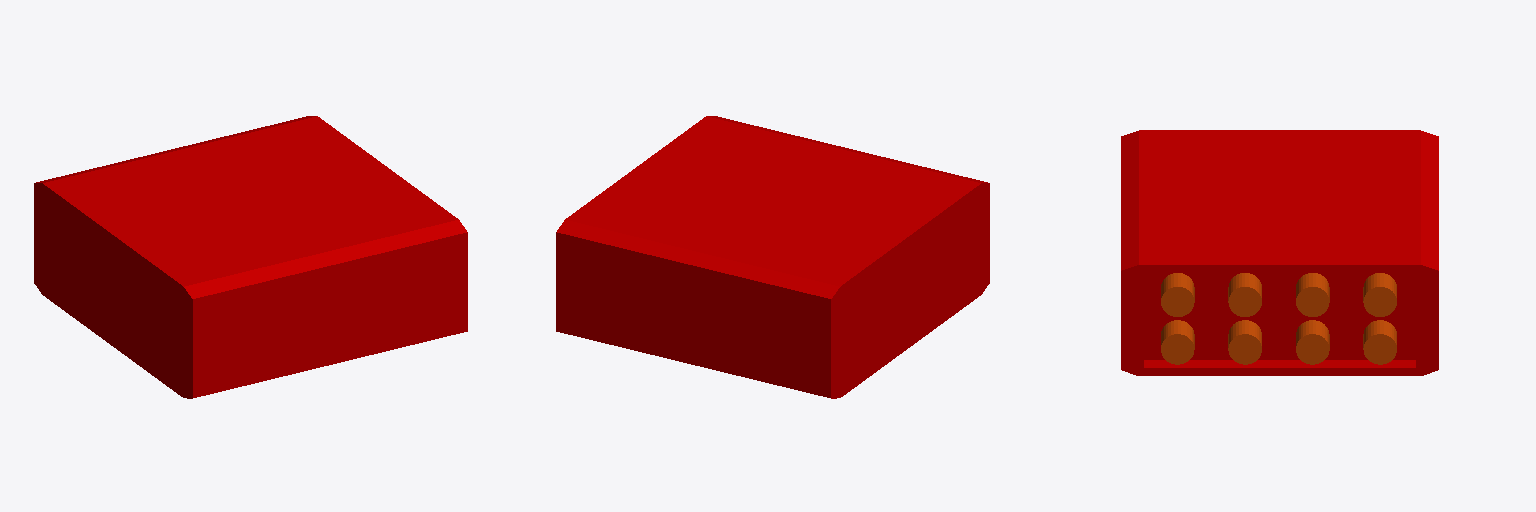
The model's file is matrixgun.obj.
The picture shows the model from 3 angles: view 1: azimuth 30°, elevation 25°; view 2: azimuth 150°, elevation 25°; view 3: azimuth 270°, elevation 25°; orthographic projection.
Visible parts, largest first — view 1: Cube.012_Cube.012; view 2: Cube.012_Cube.012; view 3: Cube.012_Cube.012, Cylinder.001_Cylinder.001.
Boxes of the visible parts, x1=… form: Cube.012_Cube.012: x1=34, y1=116, x2=467, y2=398; Cube.012_Cube.012: x1=556, y1=116, x2=989, y2=398; Cube.012_Cube.012: x1=1121, y1=130, x2=1438, y2=375; Cylinder.001_Cylinder.001: x1=1161, y1=273, x2=1396, y2=364.
Size of the model in its own units: 208 by 77.56 by 200.